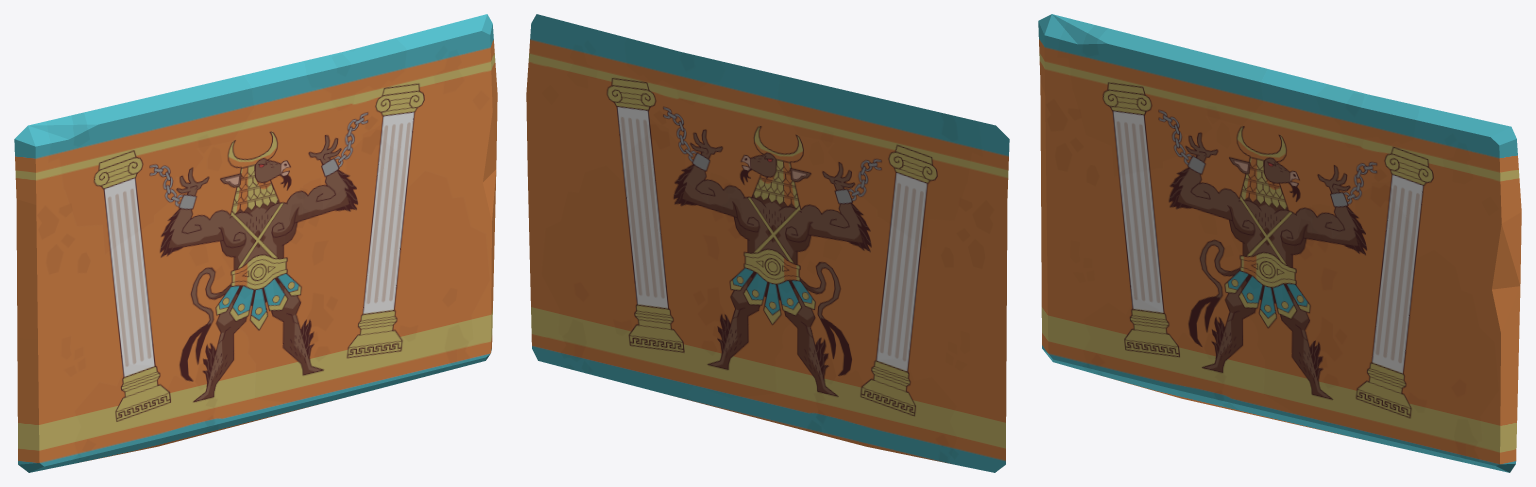
The model's file is SM_Prop_Mural_02.fbx.
The picture shows the model from 3 angles, left to right: view 1: azimuth 30°, elevation 25°; view 2: azimuth 150°, elevation 25°; view 3: azimuth 330°, elevation 25°; orthographic projection.
Visible parts, largest first — view 1: SM_Prop_Mural_02; view 2: SM_Prop_Mural_02; view 3: SM_Prop_Mural_02.
Boxes of the visible parts, x1,y1,x2,y2 form: SM_Prop_Mural_02: (14, 14, 497, 472); SM_Prop_Mural_02: (526, 14, 1009, 472); SM_Prop_Mural_02: (1038, 14, 1521, 472).
Bounding box in the file's own units: 253 × 177 × 6.83.
